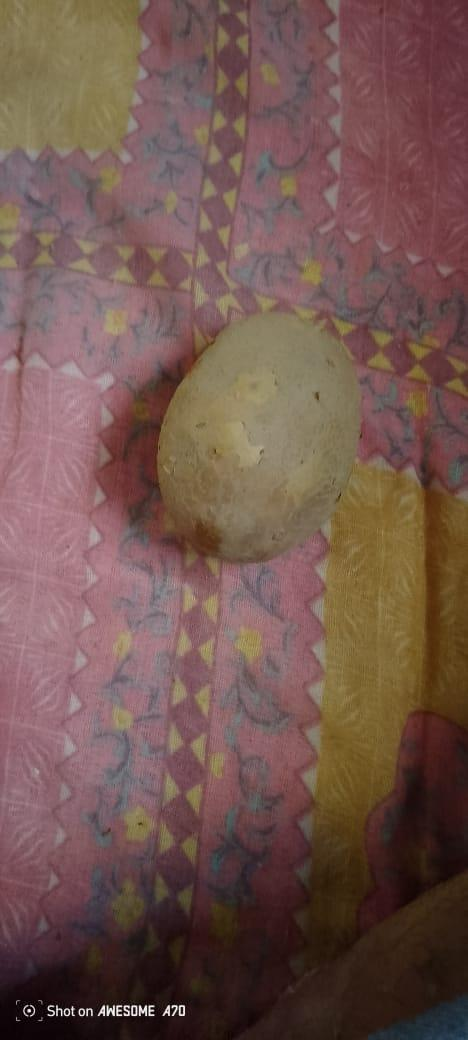non-mango: (153, 304, 367, 569)
